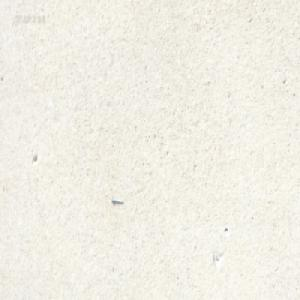Nail: (110, 196, 125, 205)
